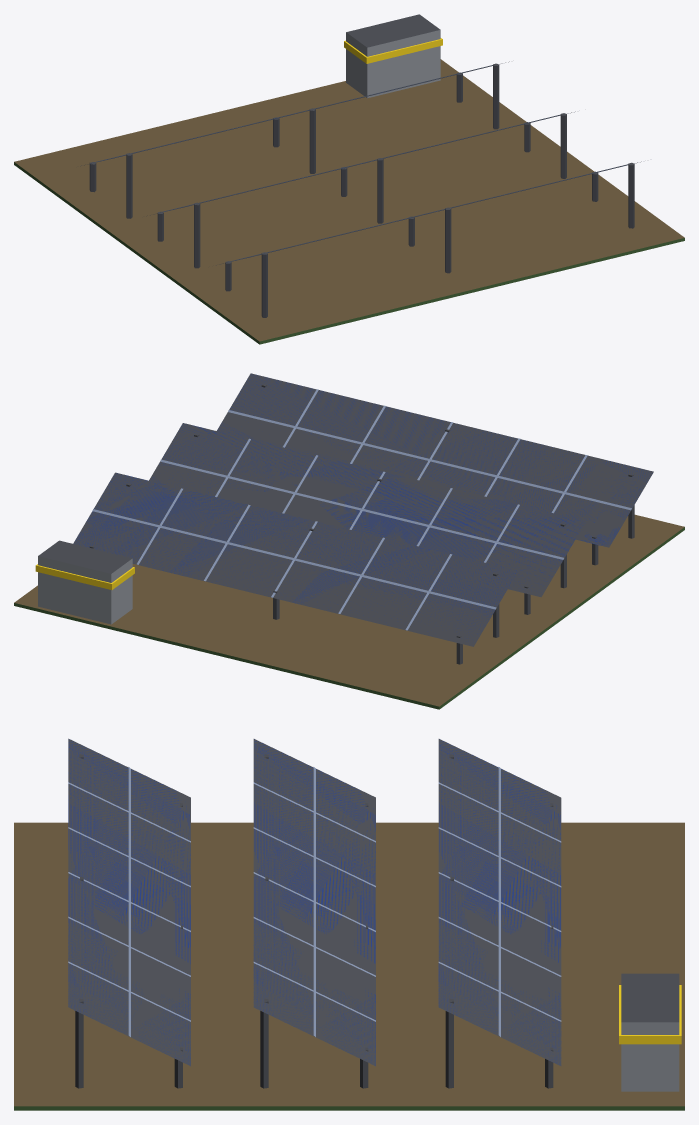
The model's file is solar_array.glb.
The picture shows the model from 3 angles, top to bottom: view 1: azimuth 30°, elevation 25°; view 2: azimuth 150°, elevation 25°; view 3: azimuth 270°, elevation 25°; orthographic projection. The views are drawn at different scales.
Parts seen in each view (by area): view 1: solar_array; view 2: solar_array; view 3: solar_array.
Part boxes in pixels (x1,y1,x2,y2): solar_array: [14, 14, 684, 344]; solar_array: [14, 373, 684, 709]; solar_array: [14, 738, 684, 1110].
Bounding box in the file's own units: 5.8 × 0.9174 × 5.8.
